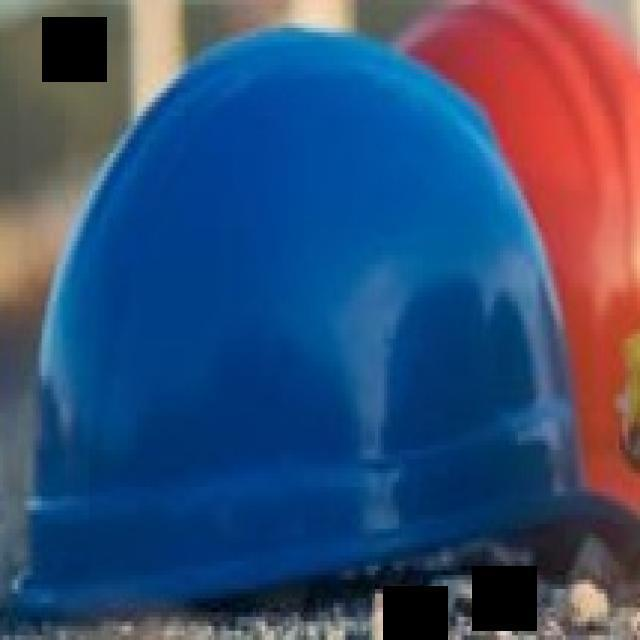blue helmet: (15, 21, 592, 587)
